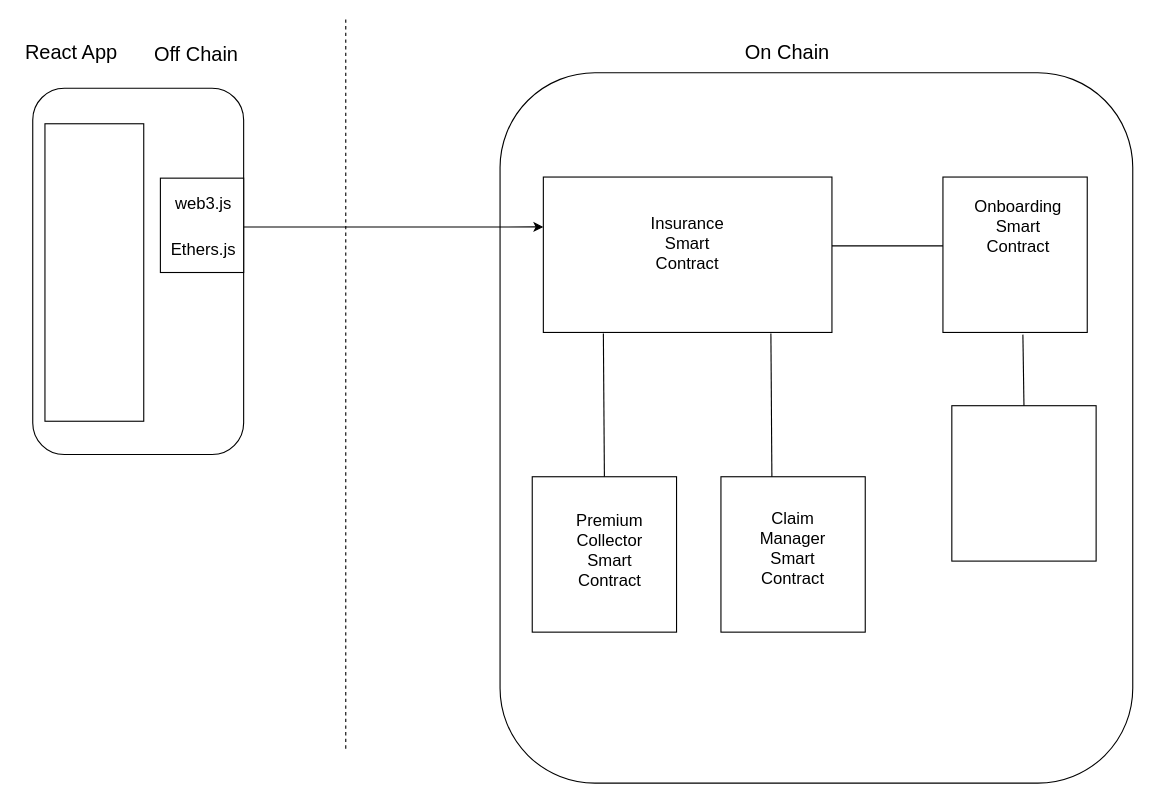
Image size: 1152x803. Some labels were removed from this diagram. The box of each missing label's shape, as (x1, y1, x2, y2) in pixels:
Policy Smart Contract: (951, 405, 1096, 561)
React Components: (44, 123, 144, 421)
